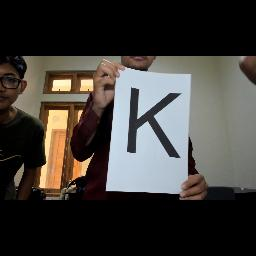k: (113, 87, 185, 161)
